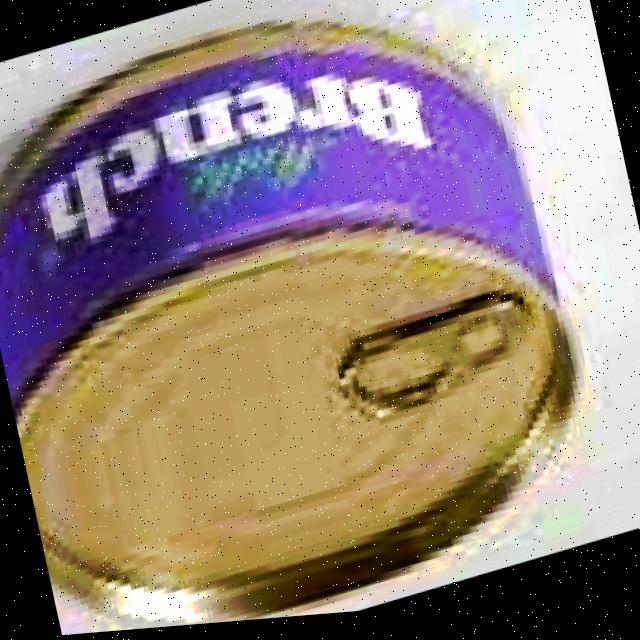Lata: (0, 26, 572, 625)
